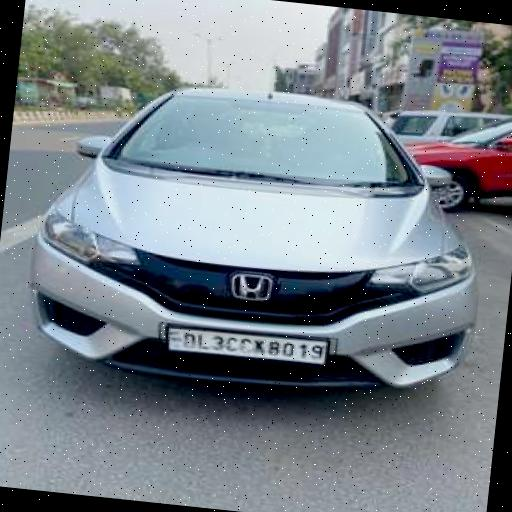license_plate`: (166, 324, 324, 363)
